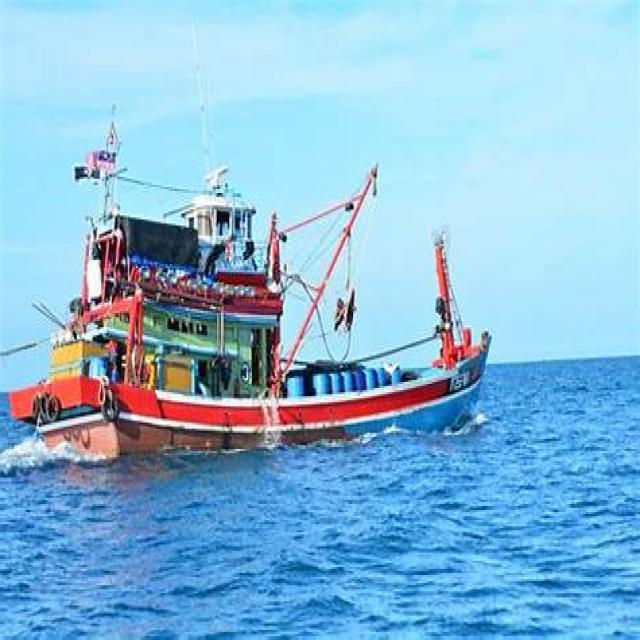Fishing Boat: (0, 100, 575, 546)
